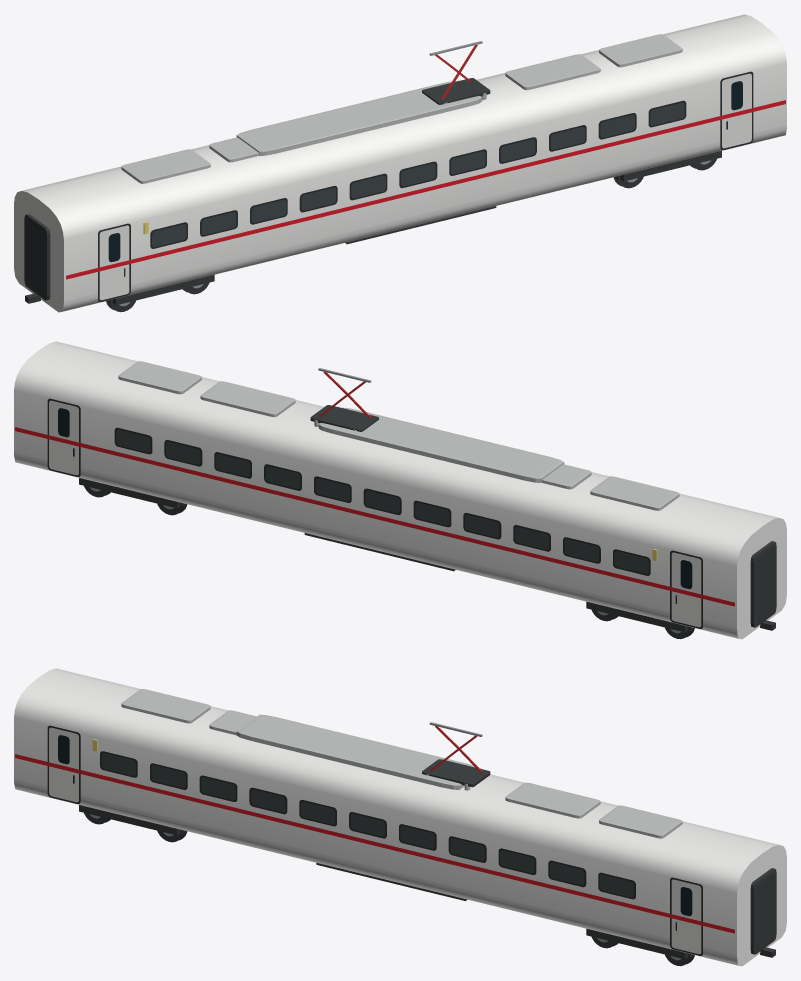
The model's file is ice3-br403-v2-first-transformer-403-1.glb.
3 views of the same model, one above another, from view 1: azimuth 30°, elevation 25°; view 2: azimuth 150°, elevation 25°; view 3: azimuth 330°, elevation 25° (orthographic).
Visible parts, largest first — view 1: ice3_v2_first_transformer_403_1_matching_shell, ice3_v2_first_transformer_403_1_transformer_roof_cabinet, ice3_v2_first_transformer_403_1_continuous_red_stripe_-1, ice3_v2_first_transformer_403_1_double_bellows_-1, ice3_v2_first_transformer_403_1_roof_fairing_3, ice3_v2_first_transformer_403_1_roof_fairing_0, ice3_v2_first_transformer_403_1_door_leaf_0_-1, ice3_v2_first_transformer_403_1_door_leaf_1_-1, ice3_v2_first_transformer_403_1_roof_fairing_4, ice3_v2_first_transformer_403_1_pantograph_base, ice3_v2_first_transformer_403_1_roof_fairing_1, ice3_v2_first_transformer_403_1_bogie_0_sideframe_-1 (+12 smaller); view 2: ice3_v2_first_transformer_403_1_matching_shell, ice3_v2_first_transformer_403_1_transformer_roof_cabinet, ice3_v2_first_transformer_403_1_continuous_red_stripe_1, ice3_v2_first_transformer_403_1_double_bellows_-1, ice3_v2_first_transformer_403_1_roof_fairing_3, ice3_v2_first_transformer_403_1_roof_fairing_0, ice3_v2_first_transformer_403_1_door_leaf_0_1, ice3_v2_first_transformer_403_1_door_leaf_1_1, ice3_v2_first_transformer_403_1_roof_fairing_4, ice3_v2_first_transformer_403_1_bogie_0, ice3_v2_first_transformer_403_1_bogie_1, ice3_v2_first_transformer_403_1_pantograph_base (+12 smaller); view 3: ice3_v2_first_transformer_403_1_matching_shell, ice3_v2_first_transformer_403_1_transformer_roof_cabinet, ice3_v2_first_transformer_403_1_continuous_red_stripe_-1, ice3_v2_first_transformer_403_1_double_bellows_1, ice3_v2_first_transformer_403_1_roof_fairing_3, ice3_v2_first_transformer_403_1_roof_fairing_0, ice3_v2_first_transformer_403_1_door_leaf_1_-1, ice3_v2_first_transformer_403_1_door_leaf_0_-1, ice3_v2_first_transformer_403_1_roof_fairing_4, ice3_v2_first_transformer_403_1_pantograph_base, ice3_v2_first_transformer_403_1_bogie_1_sideframe_-1, ice3_v2_first_transformer_403_1_bogie_0_sideframe_-1 (+12 smaller).
Boxes of the visible parts, x1,y1,x2,y2 form: ice3_v2_first_transformer_403_1_matching_shell: (14,14,786,312); ice3_v2_first_transformer_403_1_transformer_roof_cabinet: (236,80,482,155); ice3_v2_first_transformer_403_1_continuous_red_stripe_-1: (66,100,785,279); ice3_v2_first_transformer_403_1_double_bellows_-1: (24,214,50,300); ice3_v2_first_transformer_403_1_roof_fairing_3: (505,54,600,90); ice3_v2_first_transformer_403_1_roof_fairing_0: (121,149,210,183); ice3_v2_first_transformer_403_1_door_leaf_0_-1: (99,225,129,300); ice3_v2_first_transformer_403_1_door_leaf_1_-1: (722,73,751,148); ice3_v2_first_transformer_403_1_roof_fairing_4: (599,34,682,67); ice3_v2_first_transformer_403_1_pantograph_base: (422,78,490,104); ice3_v2_first_transformer_403_1_roof_fairing_1: (209,137,258,162); ice3_v2_first_transformer_403_1_bogie_0_sideframe_-1: (113,274,214,305); ice3_v2_first_transformer_403_1_matching_shell: (14,341,786,639); ice3_v2_first_transformer_403_1_transformer_roof_cabinet: (318,407,564,482); ice3_v2_first_transformer_403_1_continuous_red_stripe_1: (15,427,734,606); ice3_v2_first_transformer_403_1_double_bellows_-1: (750,541,776,627); ice3_v2_first_transformer_403_1_roof_fairing_3: (200,381,295,417); ice3_v2_first_transformer_403_1_roof_fairing_0: (590,476,679,510); ice3_v2_first_transformer_403_1_door_leaf_0_1: (671,552,701,627); ice3_v2_first_transformer_403_1_door_leaf_1_1: (49,400,78,475); ice3_v2_first_transformer_403_1_roof_fairing_4: (118,361,201,394); ice3_v2_first_transformer_403_1_bogie_0: (586,601,694,639); ice3_v2_first_transformer_403_1_bogie_1: (79,478,187,515); ice3_v2_first_transformer_403_1_pantograph_base: (310,405,378,431); ice3_v2_first_transformer_403_1_matching_shell: (14,668,786,966); ice3_v2_first_transformer_403_1_transformer_roof_cabinet: (236,714,481,789); ice3_v2_first_transformer_403_1_continuous_red_stripe_-1: (15,754,734,933); ice3_v2_first_transformer_403_1_double_bellows_1: (750,868,776,954); ice3_v2_first_transformer_403_1_roof_fairing_3: (505,782,600,818); ice3_v2_first_transformer_403_1_roof_fairing_0: (121,689,210,723); ice3_v2_first_transformer_403_1_door_leaf_1_-1: (671,879,701,954); ice3_v2_first_transformer_403_1_door_leaf_0_-1: (49,727,78,802); ice3_v2_first_transformer_403_1_roof_fairing_4: (599,805,682,838); ice3_v2_first_transformer_403_1_pantograph_base: (422,759,490,787); ice3_v2_first_transformer_403_1_bogie_1_sideframe_-1: (586,928,687,959); ice3_v2_first_transformer_403_1_bogie_0_sideframe_-1: (79,805,180,835).
Size of the model in its own units: 25.5 by 5.56 by 3.05.
